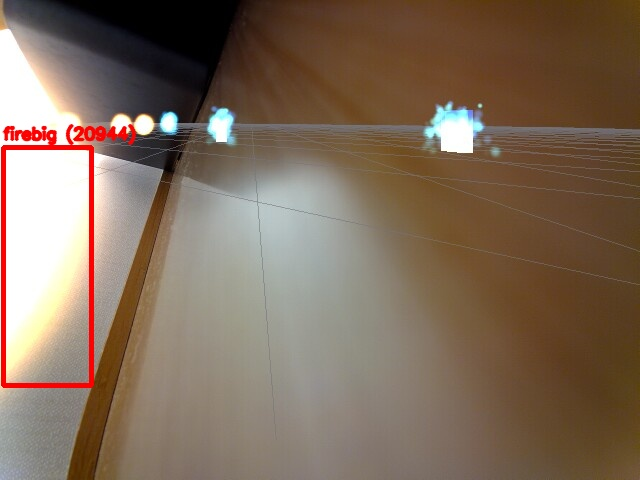firebig: (3, 147, 91, 385)
